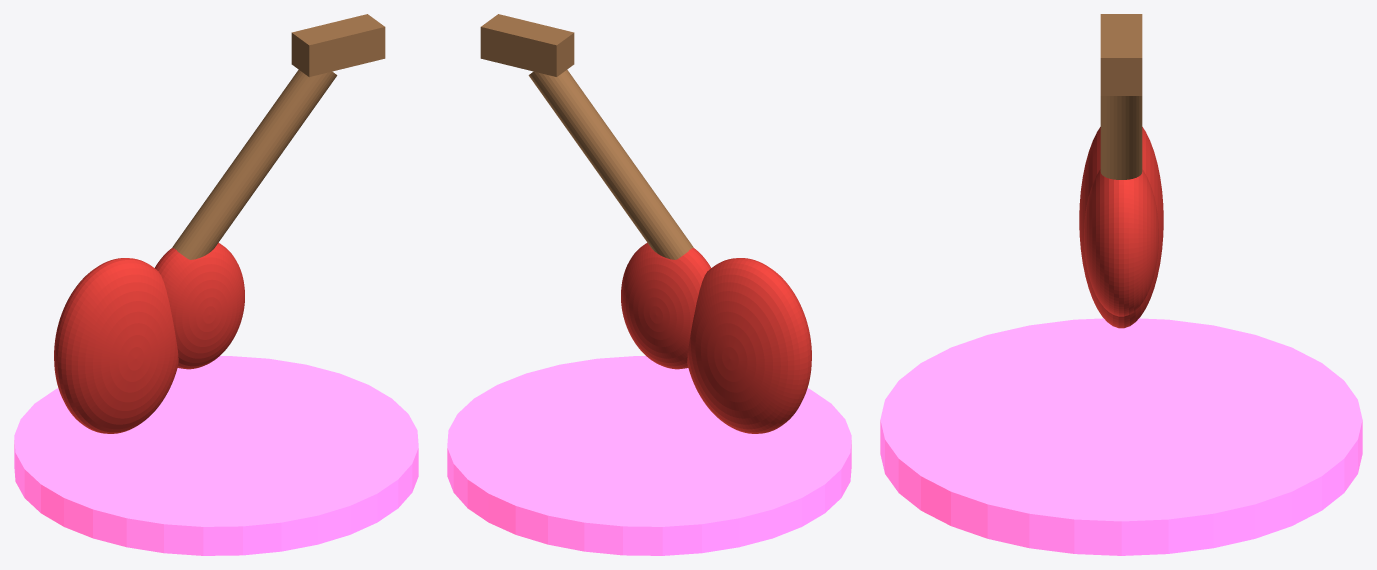
Rendered from music_electric_guitar.glb.
3 renders of one model, left to right at view 1: azimuth 30°, elevation 25°; view 2: azimuth 150°, elevation 25°; view 3: azimuth 270°, elevation 25°, orthographic. The views are drawn at different scales.
Parts seen in each view (by area): view 1: 07_04_Popular_Music_Electric_Guitar_ROOT_base, 07_04_Popular_Music_Electric_Guitar_part_01, 07_04_Popular_Music_Electric_Guitar_part_03, 07_04_Popular_Music_Electric_Guitar_part_02, 07_04_Popular_Music_Electric_Guitar_part_04; view 2: 07_04_Popular_Music_Electric_Guitar_ROOT_base, 07_04_Popular_Music_Electric_Guitar_part_01, 07_04_Popular_Music_Electric_Guitar_part_03, 07_04_Popular_Music_Electric_Guitar_part_02, 07_04_Popular_Music_Electric_Guitar_part_04; view 3: 07_04_Popular_Music_Electric_Guitar_ROOT_base, 07_04_Popular_Music_Electric_Guitar_part_02, 07_04_Popular_Music_Electric_Guitar_part_03, 07_04_Popular_Music_Electric_Guitar_part_04, 07_04_Popular_Music_Electric_Guitar_part_01.
Part boxes in pixels (bbox=[...]): 07_04_Popular_Music_Electric_Guitar_ROOT_base: bbox=[14, 356, 418, 555]; 07_04_Popular_Music_Electric_Guitar_part_01: bbox=[54, 258, 178, 433]; 07_04_Popular_Music_Electric_Guitar_part_03: bbox=[172, 69, 337, 259]; 07_04_Popular_Music_Electric_Guitar_part_02: bbox=[155, 242, 244, 369]; 07_04_Popular_Music_Electric_Guitar_part_04: bbox=[291, 14, 385, 76]; 07_04_Popular_Music_Electric_Guitar_ROOT_base: bbox=[447, 356, 851, 555]; 07_04_Popular_Music_Electric_Guitar_part_01: bbox=[687, 258, 811, 433]; 07_04_Popular_Music_Electric_Guitar_part_03: bbox=[528, 69, 693, 259]; 07_04_Popular_Music_Electric_Guitar_part_02: bbox=[621, 242, 710, 369]; 07_04_Popular_Music_Electric_Guitar_part_04: bbox=[480, 14, 574, 76]; 07_04_Popular_Music_Electric_Guitar_ROOT_base: bbox=[880, 318, 1362, 555]; 07_04_Popular_Music_Electric_Guitar_part_02: bbox=[1084, 169, 1158, 316]; 07_04_Popular_Music_Electric_Guitar_part_03: bbox=[1100, 96, 1142, 179]; 07_04_Popular_Music_Electric_Guitar_part_04: bbox=[1100, 14, 1142, 95]; 07_04_Popular_Music_Electric_Guitar_part_01: bbox=[1079, 127, 1163, 328].
Bounding box in the file's own units: 0.76 × 0.85 × 0.76.
